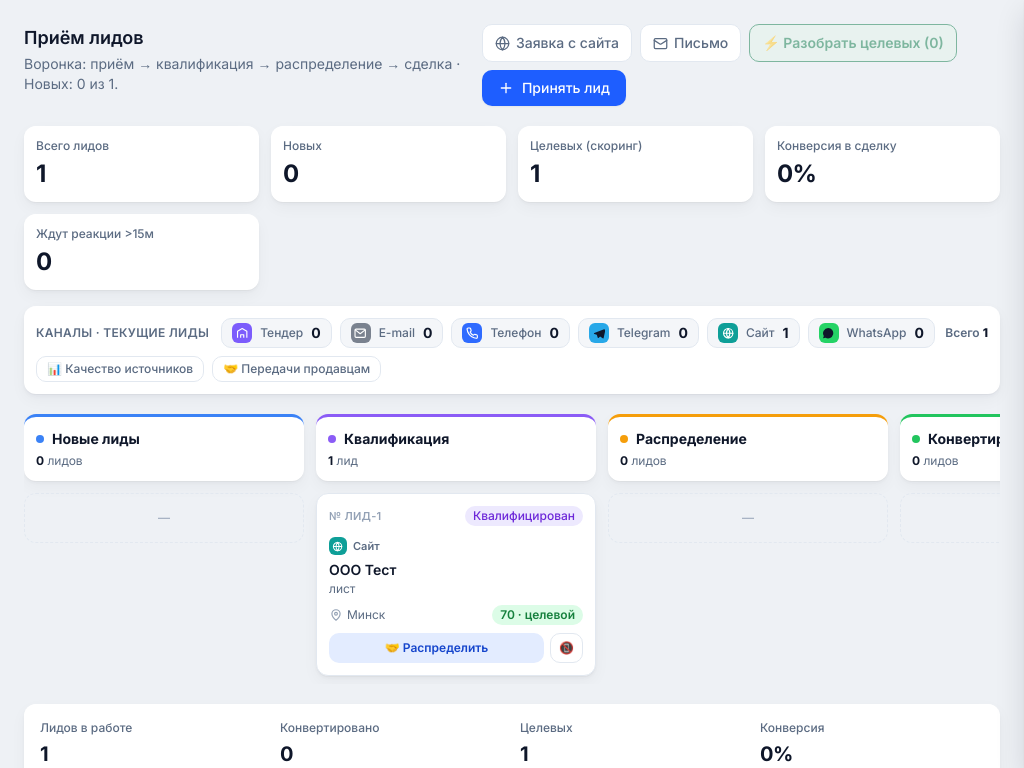
Test case: LeadsWorkspace › распределение показывает назначенного менеджера и воронку
Click the text "№ ЛИД-1". click: coordinates (355, 516)
box: [329,508,382,524]
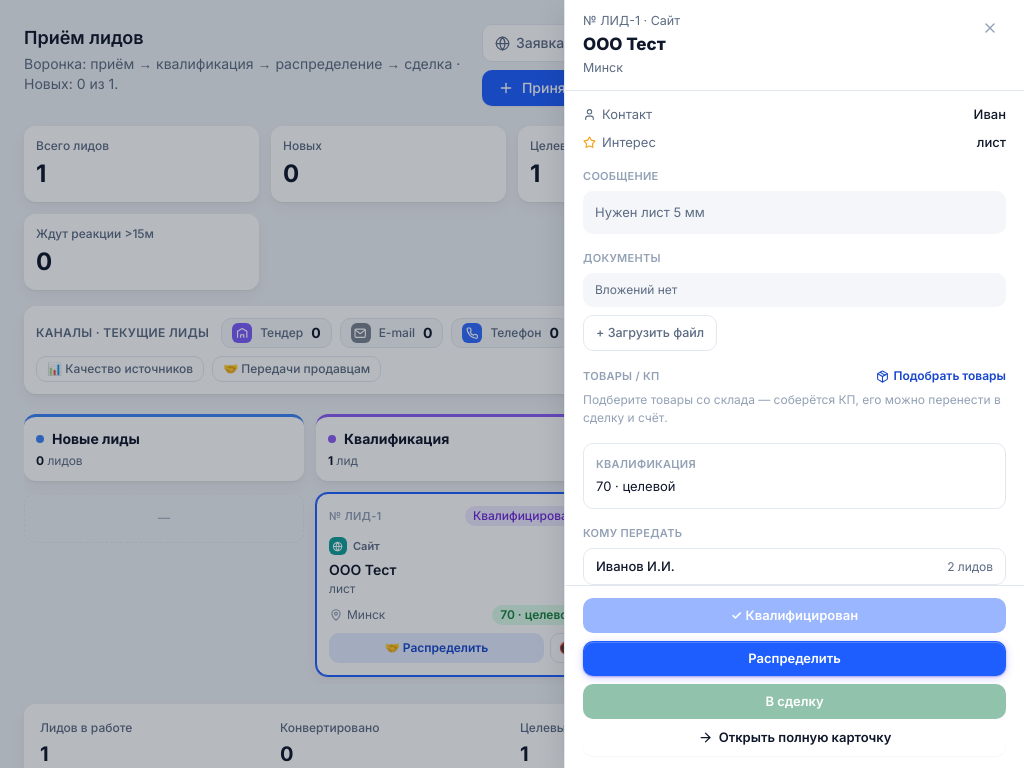
Click the button "Распределить". click: coordinates (794, 658)
box: [583,641,1006,676]
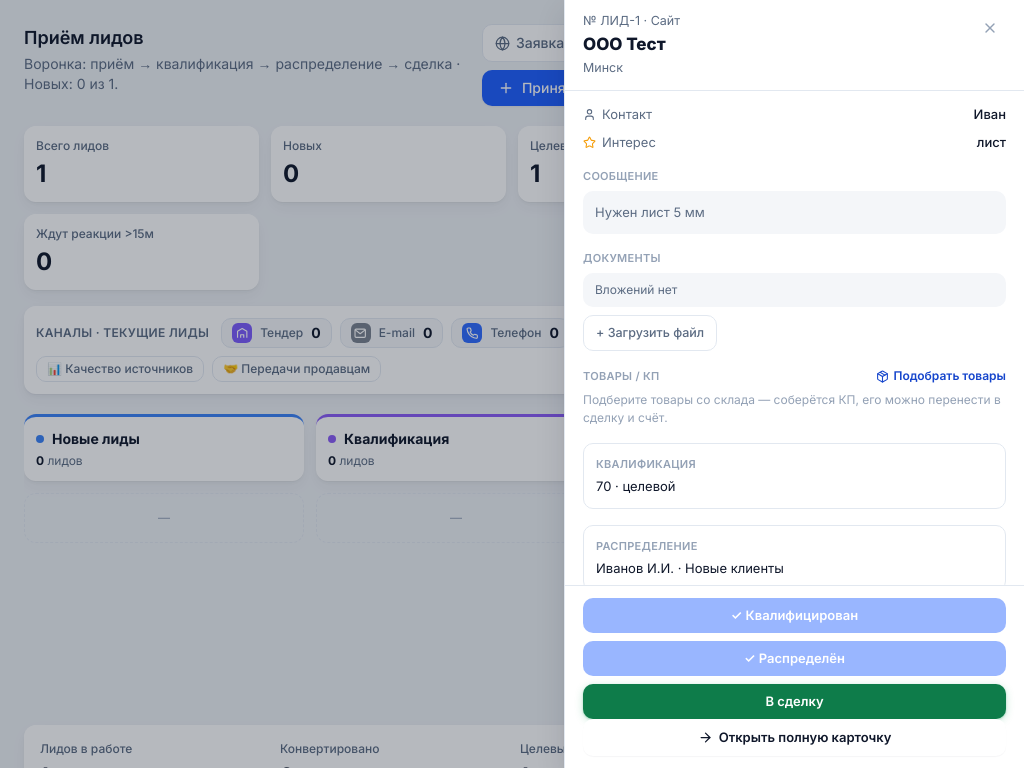
Expected: the text "Иванов И.И. · Новые клиенты" is shown, [596,560,784,576]
